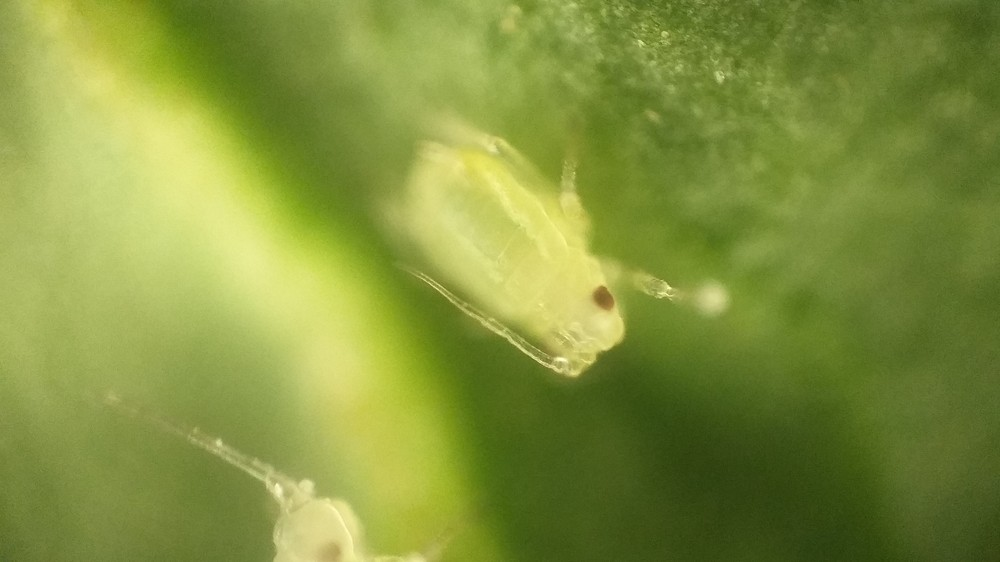Pulgon: (350, 113, 703, 409)
